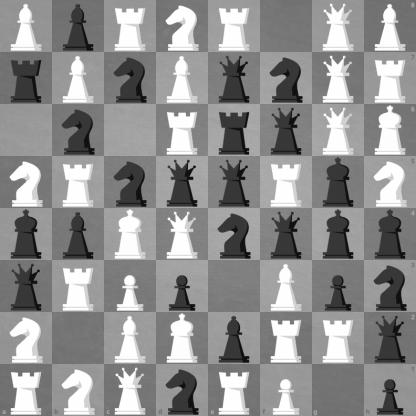B: (364, 0, 416, 52), (1, 1, 52, 52), (53, 53, 104, 104), (105, 313, 156, 364), (157, 53, 208, 104), (261, 261, 312, 312)
K: (364, 104, 416, 156), (105, 209, 156, 260), (157, 313, 208, 364)
N: (364, 156, 416, 209), (52, 364, 104, 416), (1, 157, 52, 208), (1, 313, 52, 364), (157, 1, 208, 52)
P: (260, 364, 312, 416), (105, 261, 156, 312)
Q: (104, 364, 156, 416), (157, 209, 208, 260), (313, 1, 364, 52), (313, 53, 364, 104), (313, 105, 364, 156)
R: (0, 364, 52, 416), (364, 52, 416, 104), (209, 364, 260, 416), (53, 157, 104, 208), (53, 261, 104, 312), (105, 1, 156, 52), (157, 105, 208, 156), (209, 1, 260, 52), (261, 157, 312, 208), (261, 313, 312, 364), (313, 313, 364, 364)
b: (53, 1, 104, 52), (53, 209, 104, 260), (209, 313, 260, 364)
board: (0, 0, 415, 415)
k: (364, 209, 416, 260), (1, 209, 52, 260), (313, 157, 364, 208), (313, 209, 364, 260)
n: (156, 364, 209, 416), (364, 260, 416, 312), (53, 105, 104, 156), (105, 53, 156, 104), (105, 157, 156, 208), (209, 209, 260, 260), (261, 53, 312, 104)
p: (364, 364, 416, 416), (157, 261, 208, 312), (313, 261, 364, 312)
q: (364, 312, 416, 364), (1, 261, 52, 312), (157, 157, 208, 208), (209, 53, 260, 104), (209, 157, 260, 208), (261, 105, 312, 156), (261, 209, 312, 260)
r: (1, 53, 52, 104), (209, 105, 260, 156)
